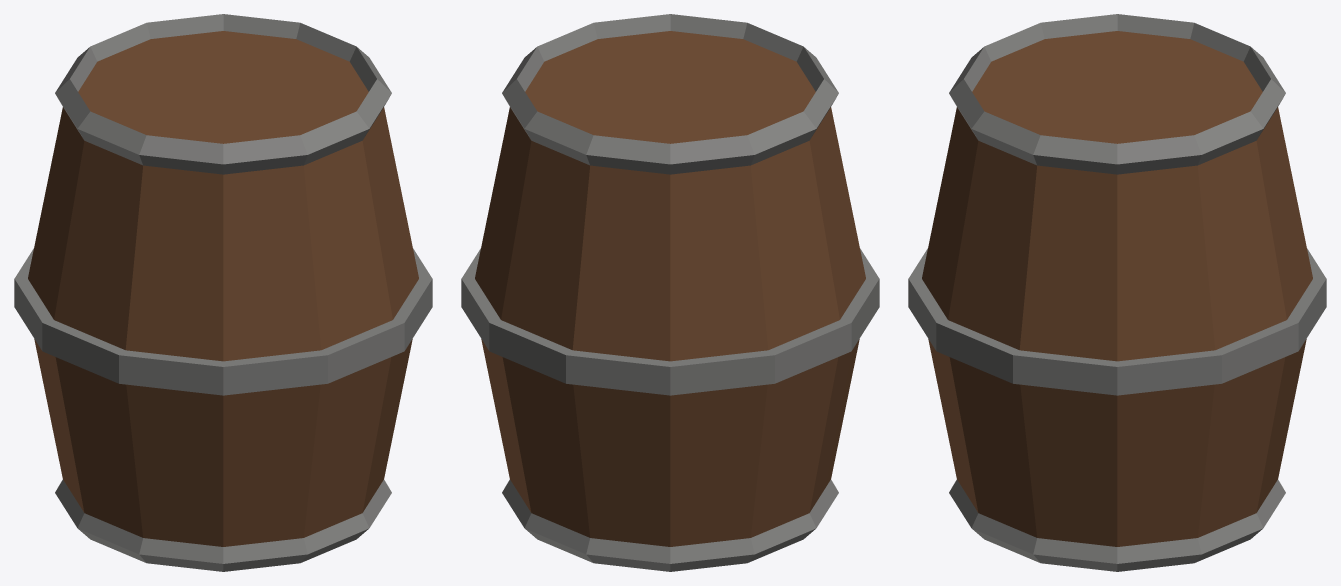
Rendered from 66thjam_barrel.fbx.
3 views of the same model, side by side, from view 1: azimuth 30°, elevation 25°; view 2: azimuth 150°, elevation 25°; view 3: azimuth 270°, elevation 25° (orthographic).
Visible parts, largest first — view 1: Cylinder.004; view 2: Cylinder.004; view 3: Cylinder.004.
Boxes of the visible parts, x1,y1,x2,y2 form: Cylinder.004: (14,14,432,571); Cylinder.004: (461,14,879,571); Cylinder.004: (908,14,1326,571).
Size of the model in its own units: 92.11 by 104 by 92.11.
1 material, 1 textured.
